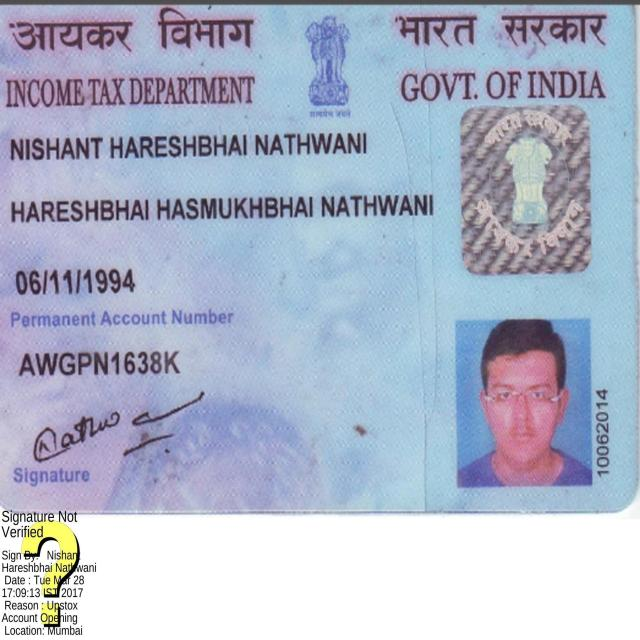pan_card: (0, 3, 631, 507)
